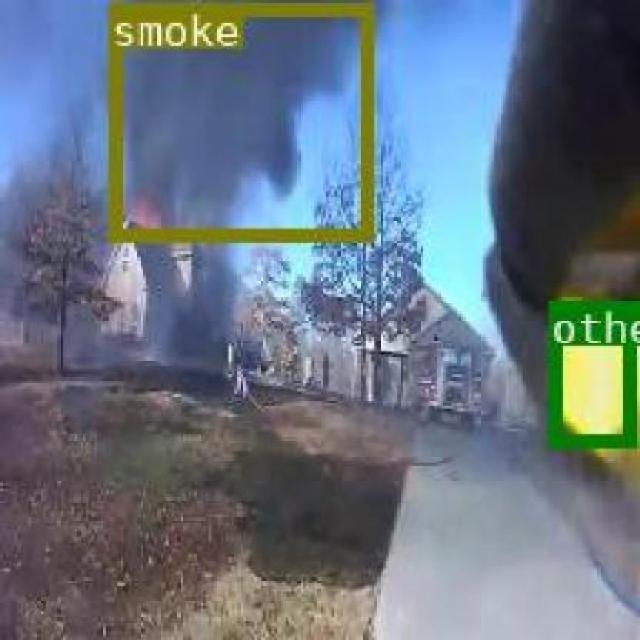smoke: (105, 2, 370, 239)
